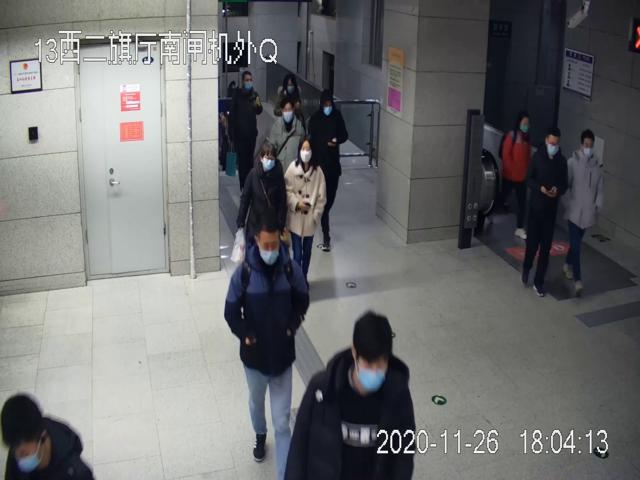person: (225, 213, 310, 480), (521, 127, 569, 296), (307, 92, 347, 252), (284, 137, 327, 284), (565, 128, 603, 291), (237, 139, 288, 248), (231, 70, 261, 192), (271, 99, 305, 169)
